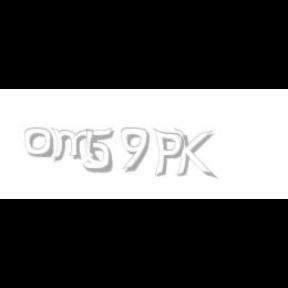5: (84, 128, 114, 174)
9: (120, 128, 150, 172)
K: (174, 128, 214, 180)
P: (152, 128, 184, 178)
m: (49, 128, 101, 162)
o: (24, 128, 54, 158)
